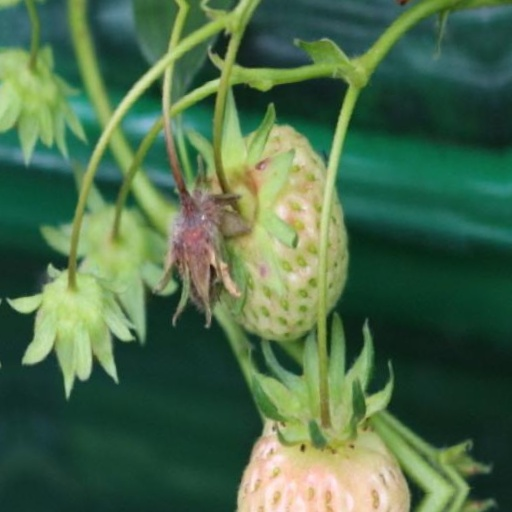Gray Mold: (256, 141, 366, 323)
